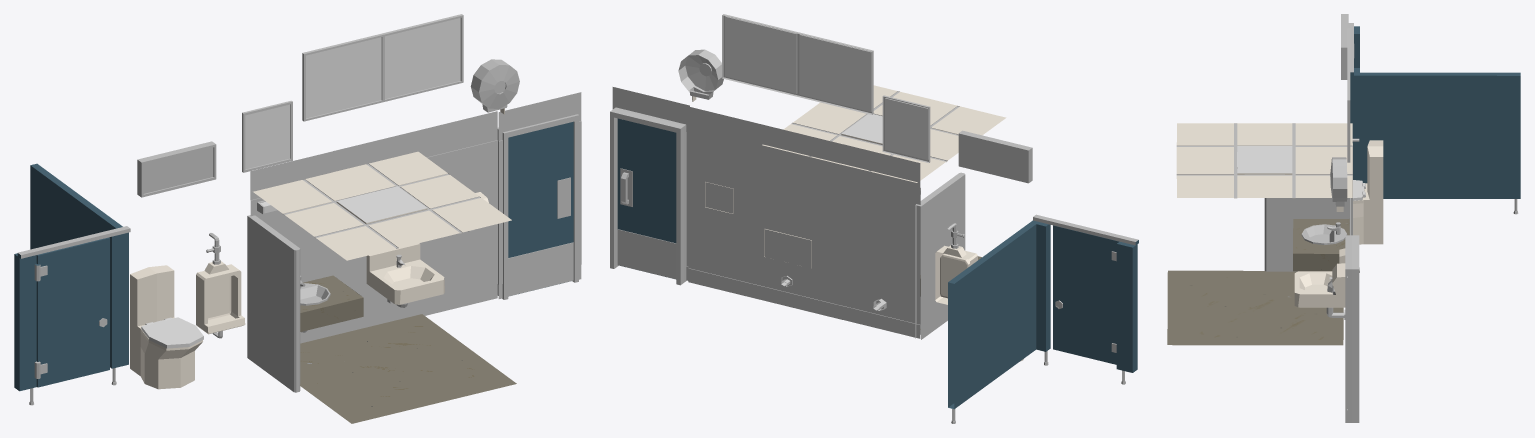
File: RestRoom.fbx
3 renders of one model, left to right at view 1: azimuth 30°, elevation 25°; view 2: azimuth 150°, elevation 25°; view 3: azimuth 270°, elevation 25°, orthographic. The views are drawn at different scales.
Parts seen in each view (by area): view 1: big tile roof, big tile, wall Tiles Big, mirror big, bathroom Door, stall door, divider, stall door frame, tolet, wall Tiles, stall wall, sink stand alone (+8 smaller); view 2: wall Tiles Big, wall Tiles, stall wall, mirror big, bathroom Door, stall door, big tile roof, stall door frame, divider, Bathroom frame, mirror small, window (+3 smaller); view 3: stall wall, big tile roof, big tile, divider, Bathroom frame, sink, tolet, sink stand alone, stall door frame, toilet paper dispenser, mirror big, hand dryer (+1 smaller).
Boxes of the visible parts, x1,y1,x2,y2 form: big tile roof: [253, 151, 511, 260]; big tile: [300, 314, 516, 423]; wall Tiles Big: [333, 111, 497, 335]; mirror big: [302, 14, 463, 121]; bathroom Door: [508, 121, 573, 296]; stall door: [34, 237, 109, 387]; divider: [247, 215, 300, 392]; stall door frame: [14, 226, 130, 405]; tolet: [130, 265, 202, 389]; wall Tiles: [250, 151, 333, 343]; stall wall: [30, 163, 122, 249]; sink stand alone: [366, 243, 444, 307]; wall Tiles Big: [688, 106, 843, 319]; wall Tiles: [843, 144, 920, 338]; stall wall: [948, 222, 1036, 423]; mirror big: [722, 14, 873, 114]; bathroom Door: [617, 118, 676, 279]; stall door: [1053, 225, 1118, 364]; big tile roof: [762, 85, 1006, 182]; stall door frame: [1030, 214, 1138, 384]; divider: [915, 172, 965, 339]; Bathroom frame: [610, 107, 686, 285]; mirror small: [882, 95, 930, 162]; window: [958, 130, 1032, 183]; stall wall: [1360, 72, 1520, 214]; big tile roof: [1176, 123, 1352, 198]; big tile: [1167, 270, 1343, 345]; divider: [1264, 143, 1352, 271]; Bathroom frame: [1345, 235, 1359, 422]; sink: [1293, 218, 1359, 272]; tolet: [1353, 140, 1383, 244]; sink stand alone: [1294, 271, 1345, 319]; stall door frame: [1348, 23, 1359, 180]; toilet paper dispenser: [1330, 157, 1347, 211]; mirror big: [1347, 28, 1350, 162]; hand dryer: [1327, 263, 1345, 301].
Size of the model in its own units: 1018 by 510 by 602.
